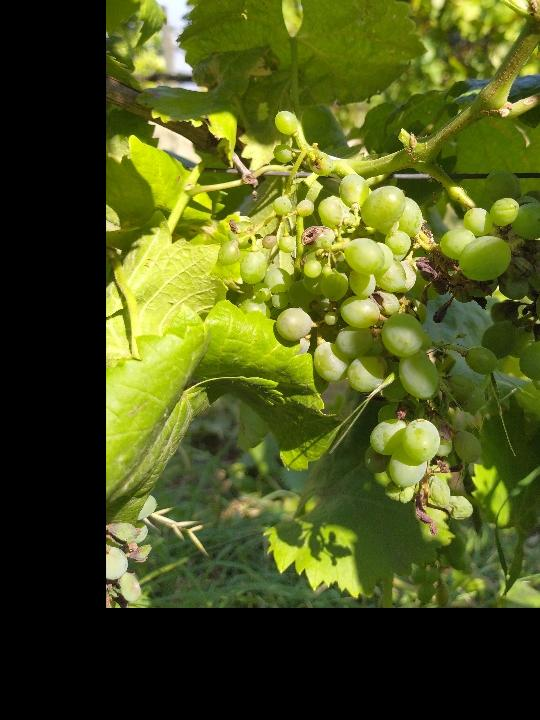grape: (215, 108, 497, 536), (438, 169, 540, 395)
